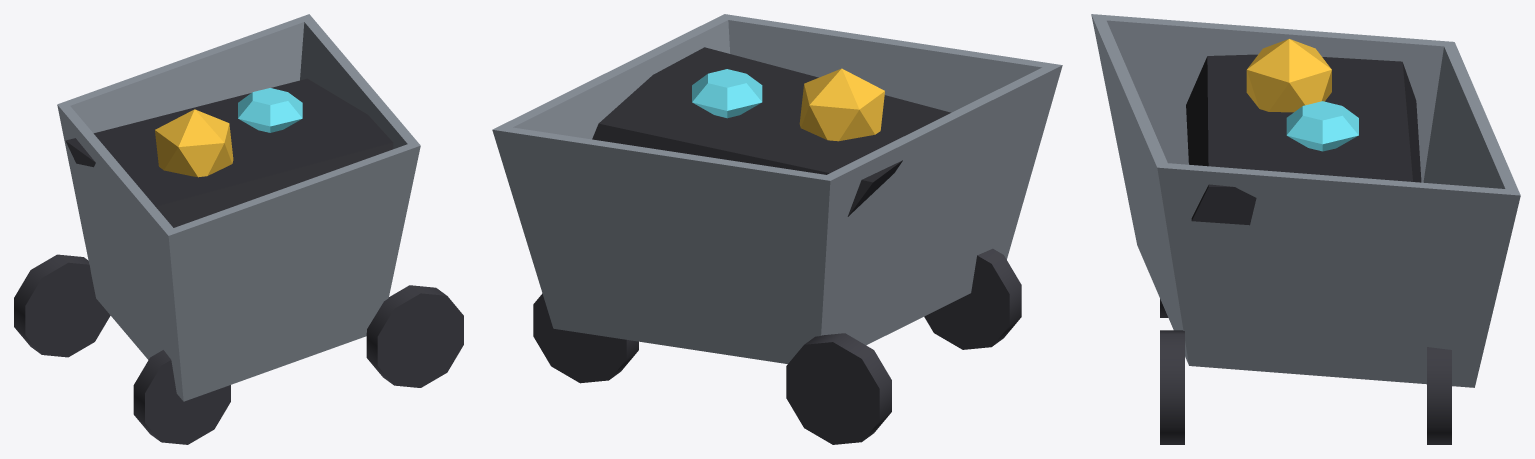
Rendered from MineCart.fbx.
The picture shows the model from 3 angles, left to right: view 1: azimuth 30°, elevation 25°; view 2: azimuth 150°, elevation 25°; view 3: azimuth 270°, elevation 25°; orthographic projection. The views are drawn at different scales.
Parts seen in each view (by area): view 1: MineCart; view 2: MineCart; view 3: MineCart.
Boxes of the visible parts, x1,y1,x2,y2 form: MineCart: (14,14,463,444); MineCart: (492,14,1062,444); MineCart: (1091,14,1520,444).
Bounding box in the file's own units: 2.57 × 2.05 × 2.57.
Materials: 1 (1 with a texture image).
